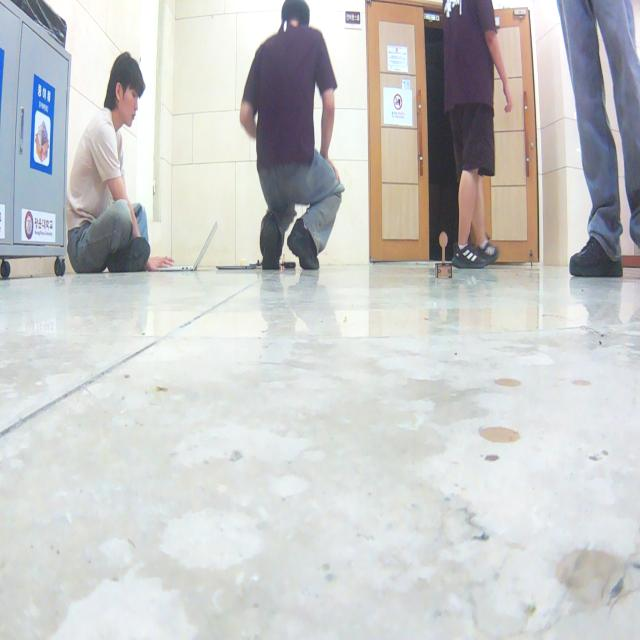target: (434, 231, 452, 279)
